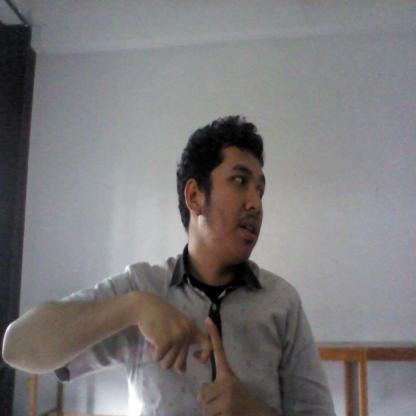K: (138, 286, 248, 416)
